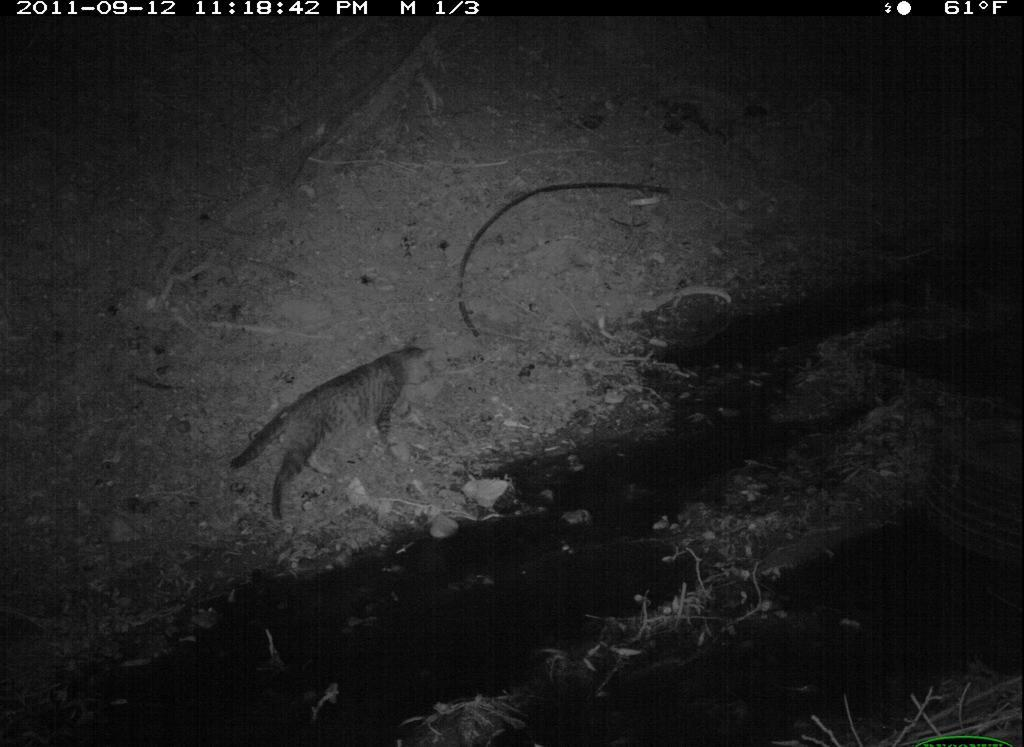cat: (226, 335, 443, 527)
